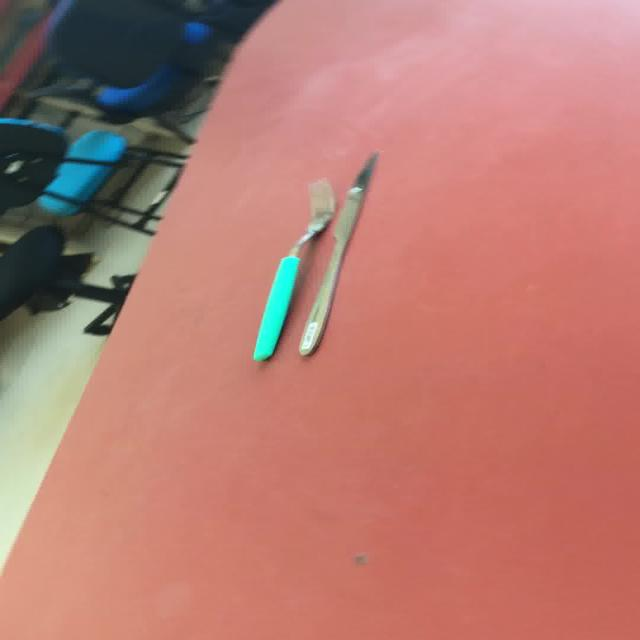knife fork: (297, 149, 379, 356), (250, 176, 335, 361)
